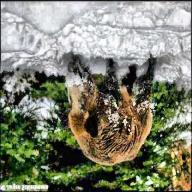boar: (58, 45, 158, 173)
